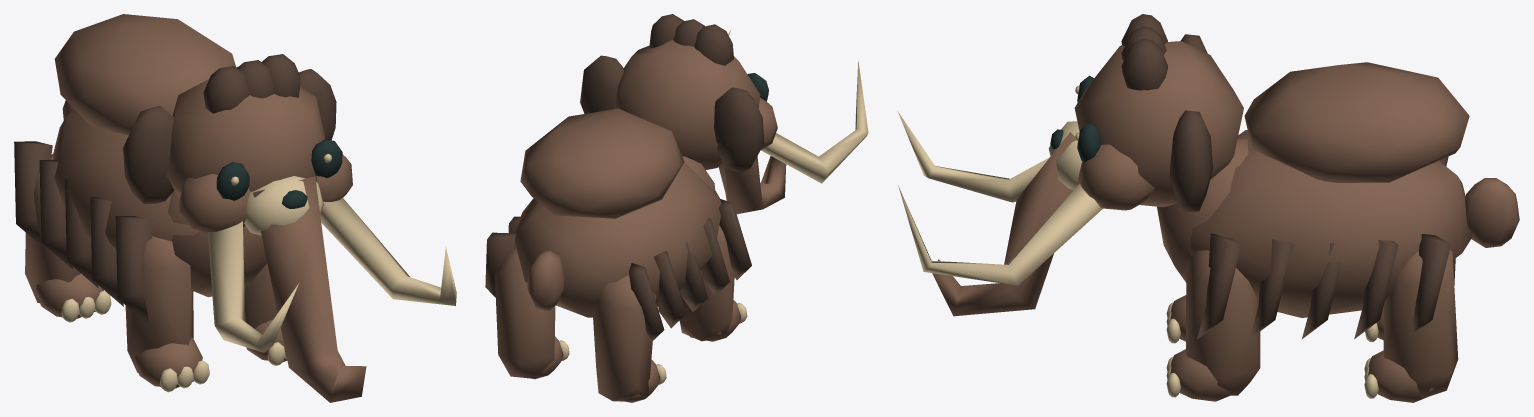
The model's file is org_mammoth.glb.
3 renders of one model, left to right at view 1: azimuth 30°, elevation 25°; view 2: azimuth 150°, elevation 25°; view 3: azimuth 270°, elevation 25°, orthographic. The views are drawn at different scales.
Parts seen in each view (by area): view 1: Head, Body, Leg_FR, Leg_BR, Leg_FL, Eye_R, Eye_L; view 2: Body, Head, Leg_BR, Leg_BL, Leg_FR, Tail; view 3: Body, Head, Leg_BL, Leg_FL, Tail, Leg_FR, Eye_L.
Part boxes in pixels (<box>): Head: <box>123,54,456,402</box>; Body: <box>14,14,267,324</box>; Leg_FR: <box>125,236,209,392</box>; Leg_BR: <box>25,154,111,322</box>; Leg_FL: <box>244,263,287,365</box>; Eye_R: <box>216,162,249,200</box>; Eye_L: <box>311,139,342,177</box>; Body: <box>485,108,751,341</box>; Head: <box>580,14,868,214</box>; Leg_BR: <box>593,275,666,402</box>; Leg_BL: <box>495,247,569,379</box>; Leg_FR: <box>679,225,747,341</box>; Tail: <box>527,250,565,310</box>; Body: <box>1157,62,1472,339</box>; Head: <box>897,14,1243,316</box>; Leg_BL: <box>1364,250,1458,402</box>; Leg_FL: <box>1166,250,1260,401</box>; Tail: <box>1465,178,1519,247</box>; Leg_FR: <box>1166,295,1185,343</box>; Eye_L: <box>1075,122,1101,162</box>.
Size of the model in its own units: 1.03 by 1.58 by 2.6.
